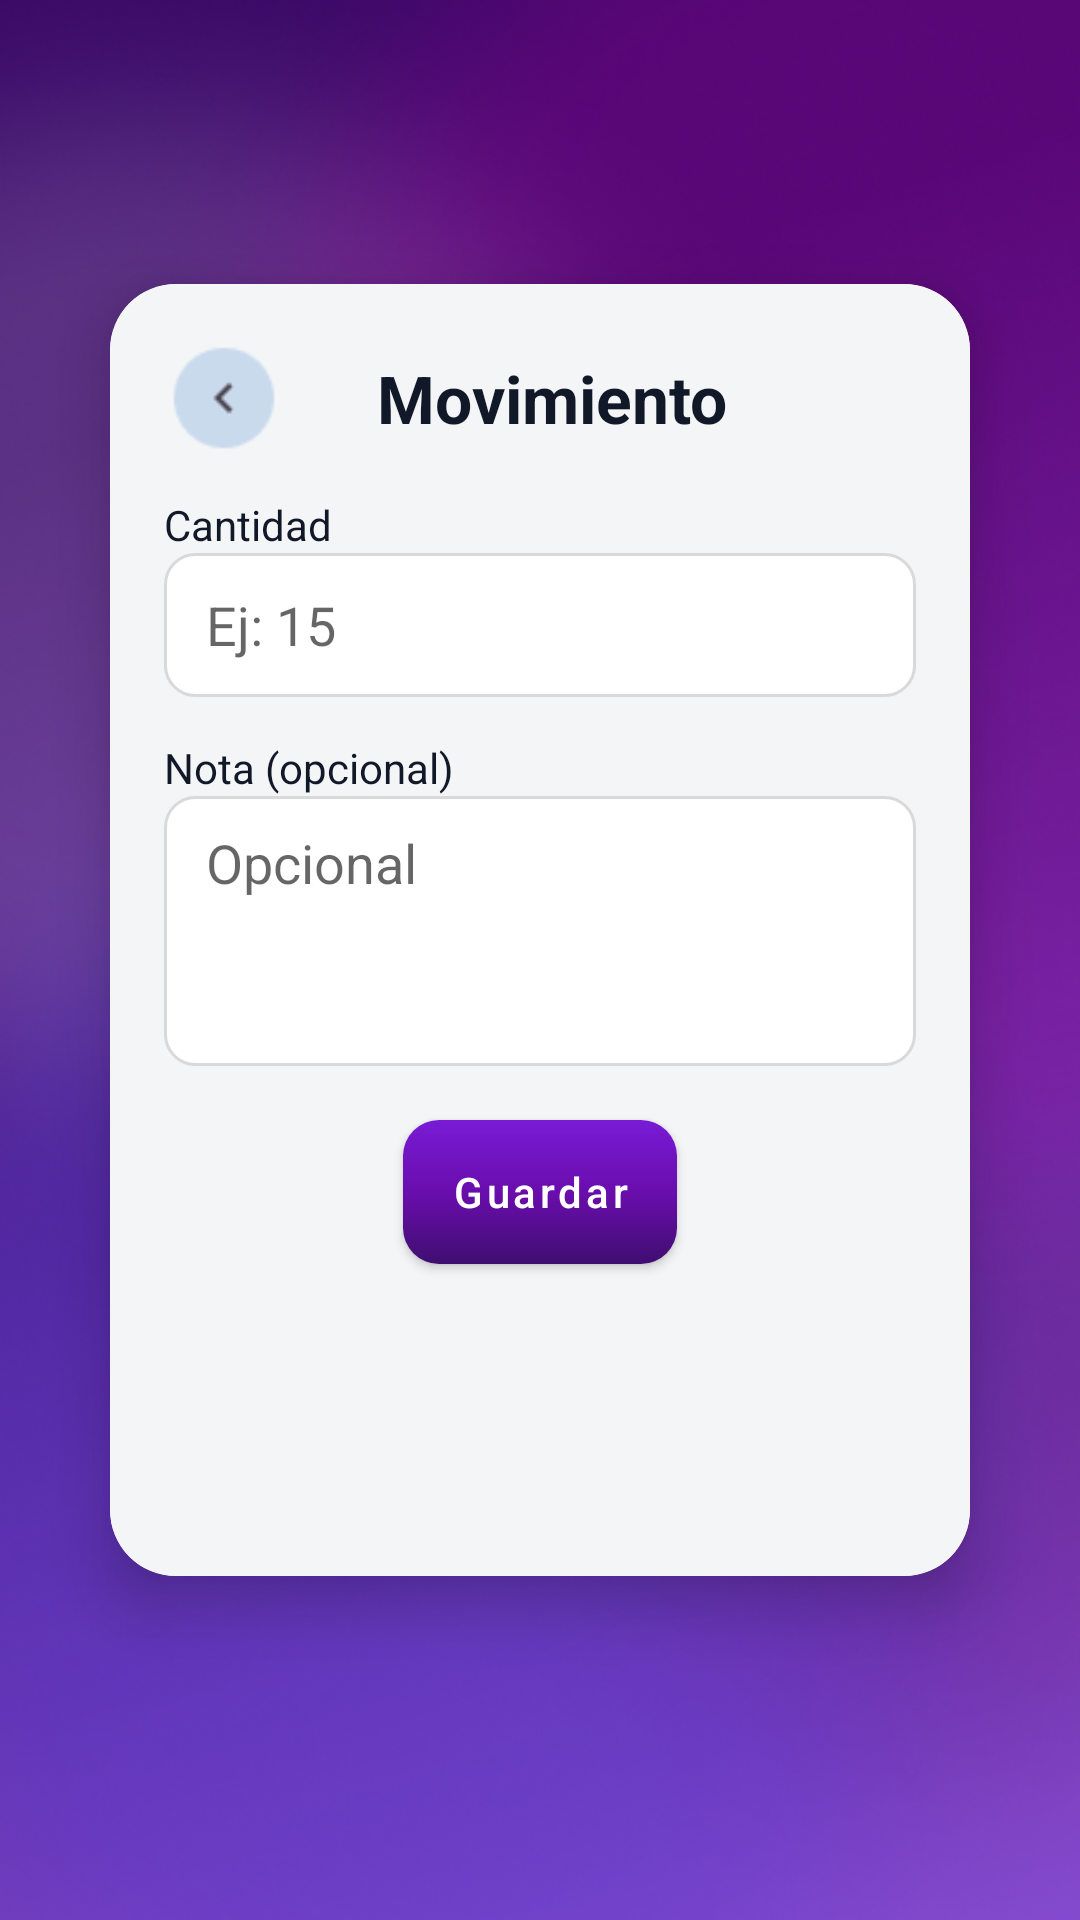

Named icons in this screenshot (1080w x 1920h) and their centers, point (x, y):
Volver: point (224, 398)
